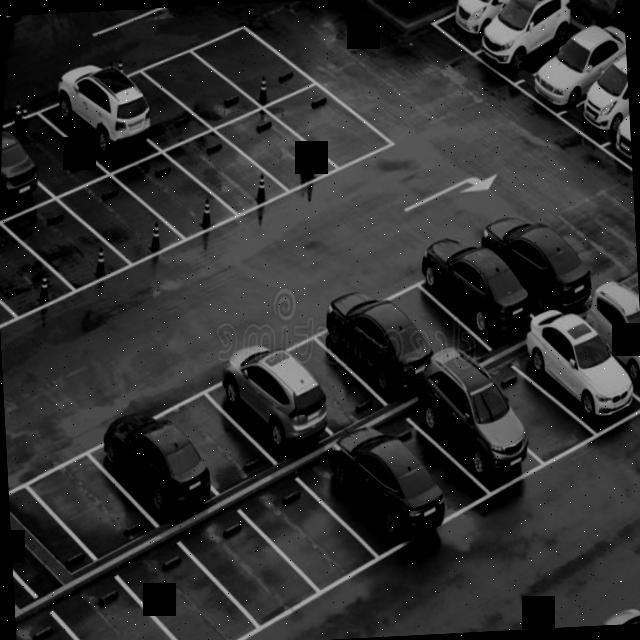car: (412, 362, 525, 502), (322, 430, 431, 568), (90, 406, 212, 526), (0, 215, 92, 365), (33, 186, 130, 324), (411, 232, 526, 346), (82, 174, 186, 298), (321, 288, 423, 408), (529, 312, 626, 437), (136, 142, 235, 264), (44, 70, 162, 170), (215, 348, 328, 451), (478, 208, 589, 310), (0, 86, 97, 195), (188, 120, 295, 218), (466, 8, 591, 88), (94, 49, 195, 148), (512, 32, 630, 116), (239, 104, 333, 190), (585, 283, 640, 403), (560, 71, 632, 152), (421, 0, 524, 56), (604, 94, 634, 184)
free: (199, 502, 305, 632), (248, 471, 358, 588), (370, 264, 485, 374), (382, 410, 483, 526), (480, 350, 580, 467), (155, 385, 264, 492), (28, 449, 138, 551), (294, 70, 388, 179), (139, 540, 240, 640), (140, 44, 254, 132), (277, 329, 378, 428), (51, 578, 187, 640), (210, 13, 302, 102)
